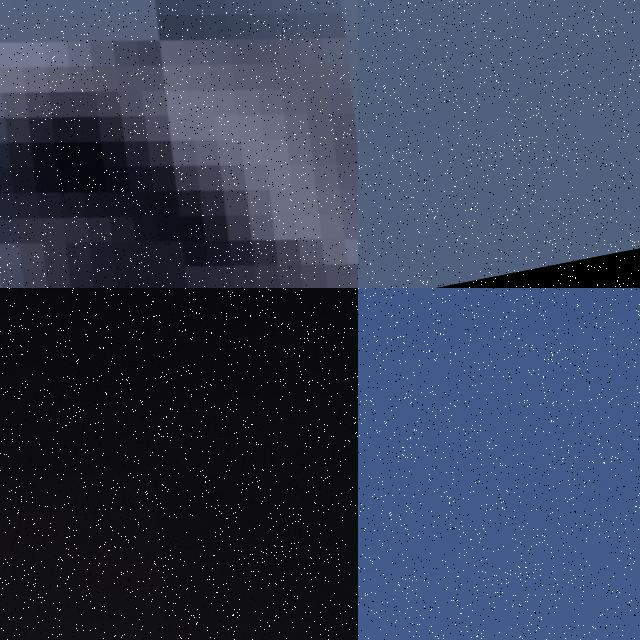0: (0, 0, 358, 288)
drone: (0, 288, 358, 640)
